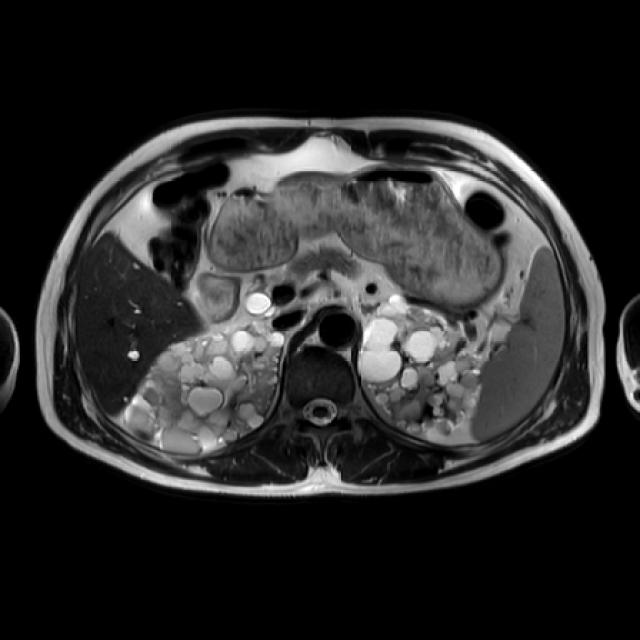sag: (126, 323, 284, 452)
sol: (362, 294, 481, 437)
